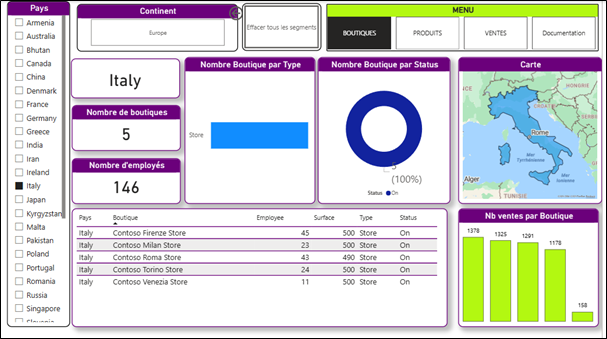

Layout of this report page (visuals, bound fields, positions):
{"tool":"powerbi","page":{"name":"BOUTIQUES","canvas":[1280,720],"ordinal":0},"visuals":[{"type":"slicer","title":"Continent","fields":{"Values":["Geographie.Continent"]},"box":[163.3,5.5,343.1,101.5],"z":0},{"type":"slicer","title":"Pays","fields":{"Values":["Geographie.Pays"]},"box":[13.7,0,134.5,694.3],"z":1000},{"type":"card","fields":{"Values":["Geographie.PaysSelected"]},"box":[150.9,122.1,231.9,85.1],"z":2000},{"type":"card","title":"Nombre de boutiques","fields":{"Values":["Boutiques.Nombre Boutique"]},"box":[152.3,222.3,231.9,97.4],"z":3000},{"type":"card","title":"Nombre d''employés","fields":{"Values":["Sum(Boutiques.Employee)"]},"box":[152.3,334.8,231.9,97.4],"z":4000},{"type":"funnel","fields":{"Category":["Boutiques.Type"],"Y":["Boutiques.Nombre Boutique"]},"box":[392.5,119.4,278.6,312.9],"z":5000},{"type":"donutChart","fields":{"Category":["Boutiques.Status"],"Y":["Boutiques.Nombre Boutique"]},"box":[675.1,119.4,282.7,312.9],"z":6000},{"type":"azureMap","title":"Carte","fields":{"Category":["Geographie.Pays","Geographie.Continent"]},"box":[974.3,119.4,306,312.9],"z":7000},{"type":"tableEx","fields":{"Values":["Geographie.Pays","Boutiques.Boutique","Boutiques.Employee","Boutiques.Surface","Boutiques.Type","Boutiques.Status"]},"box":[152.3,441.9,800,252.5],"z":8000},{"type":"actionButton","box":[481.6,5.5,100.2,39.8],"z":9000},{"type":"columnChart","fields":{"Category":["Boutiques.Boutique"],"Y":["Sales.Nb ventes"]},"box":[974.3,441.9,299.1,252.5],"z":10000},{"type":"actionButton","box":[515,5,168.8,101.2],"z":11000},{"type":"pageNavigator","title":"MENU","box":[694.4,5.6,578.9,101.1],"z":12000}]}

Visuals, with their boxes in screenshot pixels (x1, y1, x2, y2), scaled from the page's 1280x720 canvas onto the 607x339 screenshot:
"Continent" slicer: bbox=(77, 3, 240, 50)
"Pays" slicer: bbox=(6, 0, 70, 327)
card - Geographie.PaysSelected: bbox=(72, 57, 182, 98)
"Nombre de boutiques" card: bbox=(72, 105, 182, 151)
"Nombre d''employés" card: bbox=(72, 158, 182, 203)
funnel - Boutiques.Type x Boutiques.Nombre Boutique: bbox=(186, 56, 318, 204)
donutChart - Boutiques.Status x Boutiques.Nombre Boutique: bbox=(320, 56, 454, 204)
"Carte" azureMap: bbox=(462, 56, 606, 204)
tableEx - Geographie.Pays x Boutiques.Boutique: bbox=(72, 208, 452, 327)
actionButton: bbox=(228, 3, 276, 21)
columnChart - Boutiques.Boutique x Sales.Nb ventes: bbox=(462, 208, 604, 327)
actionButton: bbox=(244, 2, 324, 50)
"MENU" pageNavigator: bbox=(329, 3, 604, 50)
